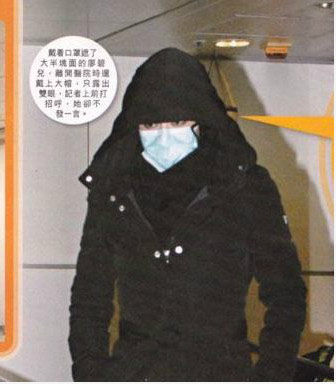face_mask: (138, 105, 199, 175)
